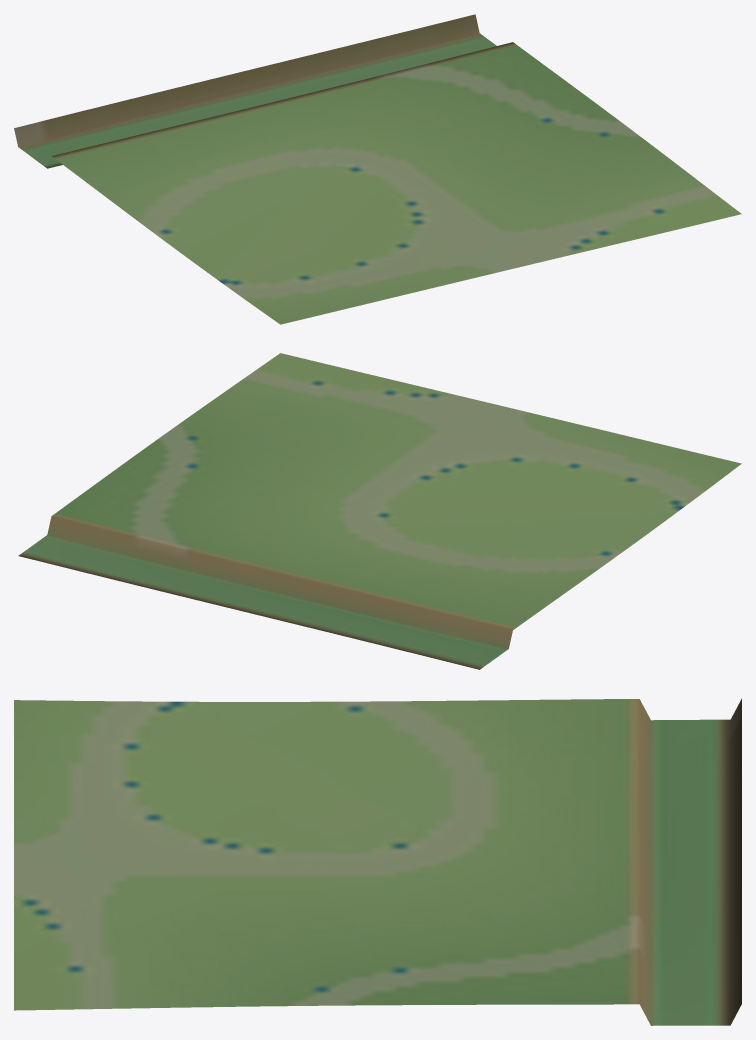
The model's file is terrain_T_W05_S02.glb.
The picture shows the model from 3 angles, top to bottom: view 1: azimuth 30°, elevation 25°; view 2: azimuth 150°, elevation 25°; view 3: azimuth 270°, elevation 25°; orthographic projection. The views are drawn at different scales.
Visible parts, largest first — view 1: Terrain_T_W05_S02; view 2: Terrain_T_W05_S02; view 3: Terrain_T_W05_S02.
Part boxes in pixels (box(x1,y1,x2,y2)): Terrain_T_W05_S02: box(14, 14, 741, 324); Terrain_T_W05_S02: box(18, 353, 741, 669); Terrain_T_W05_S02: box(14, 698, 741, 1025).
Bounding box in the file's own units: 2000 × 72.34 × 2000.
1 material, 1 textured.
